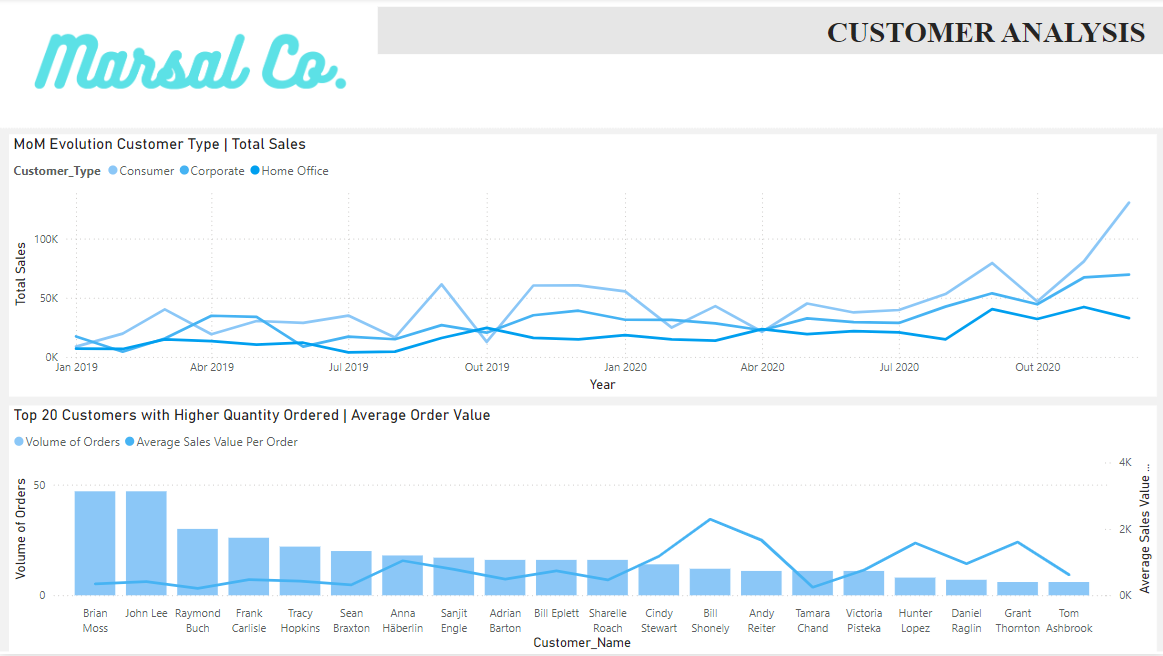

The dashboard page shown, as its layout file describes it:
{"tool":"powerbi","page":{"name":"Customer Analysis","canvas":[1280,720],"ordinal":4},"visuals":[{"type":"lineChart","title":"MoM Evolution Customer Type | Total Sales","fields":{"Y":["_Measures.Total Sales"],"Category":["Dim_Date.Date.Variation.Date Hierarchy.Year","Dim_Date.Date.Variation.Date Hierarchy.Month"],"Series":["Dim_Client.Customer_Type"]},"box":[11,149.6,1259.7,288.2],"z":0},{"type":"lineStackedColumnComboChart","title":"Top 20 Customers with Highest Order Volume | Average Order Value","fields":{"Category":["Dim_Client.Customer_Name"],"Y":["_Measures.Volume of Orders"],"Y2":["_Measures.Average Sales Value Per Order"]},"box":[11,447.3,1259.7,273.1],"z":1000},{"type":"image","box":[11,9.6,391.1,124.9],"z":2000},{"type":"shape","box":[415.5,9.6,864.5,52.1],"z":2001},{"type":"textbox","box":[848,9.6,432.2,52.1],"z":2002}]}

Visuals, with their boxes in screenshot pixels (x1, y1, x2, y2), scaled from the page's 1280x720 canvas onto the 1163x656 screenshot:
"MoM Evolution Customer Type | Total Sales" lineChart: bbox(10, 136, 1155, 399)
"Top 20 Customers with Highest Order Volume | Average Order Value" lineStackedColumnComboChart: bbox(10, 408, 1155, 655)
image: bbox(10, 9, 365, 123)
shape: bbox(378, 9, 1162, 56)
textbox: bbox(770, 9, 1162, 56)
